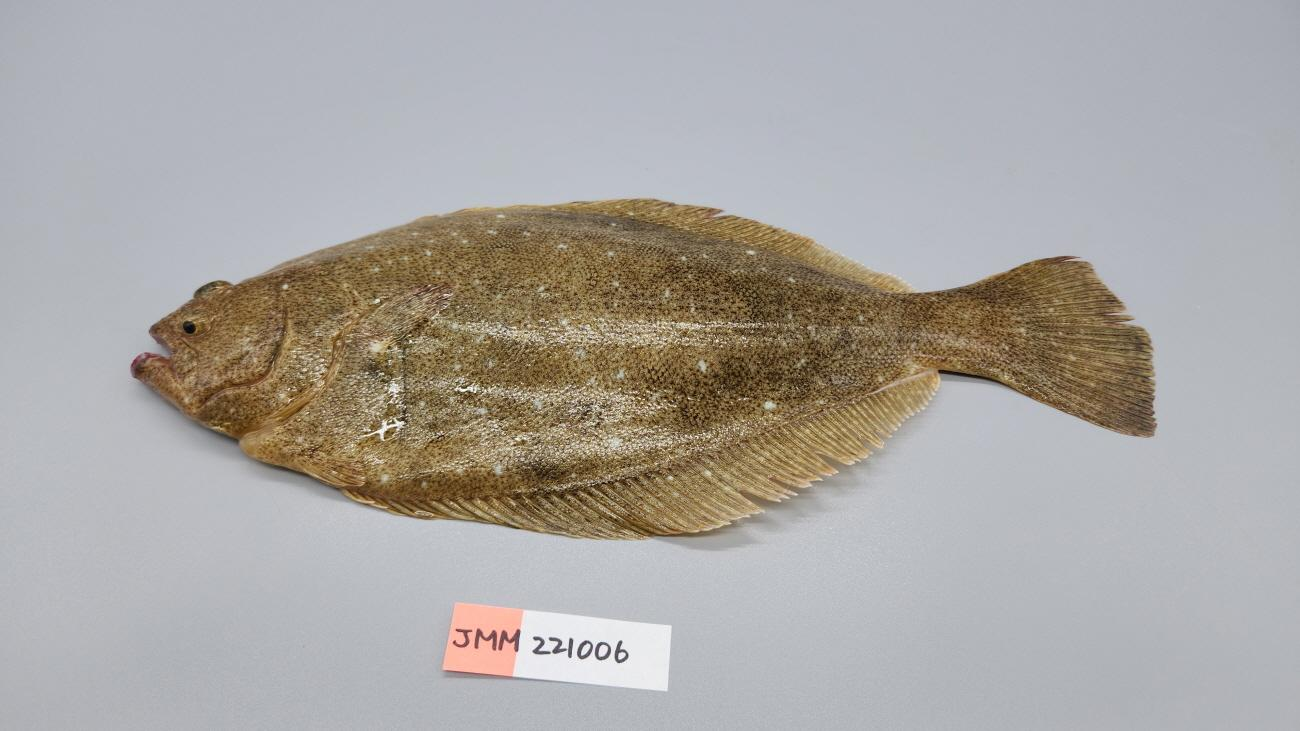POOUN: (127, 199, 1156, 540)
